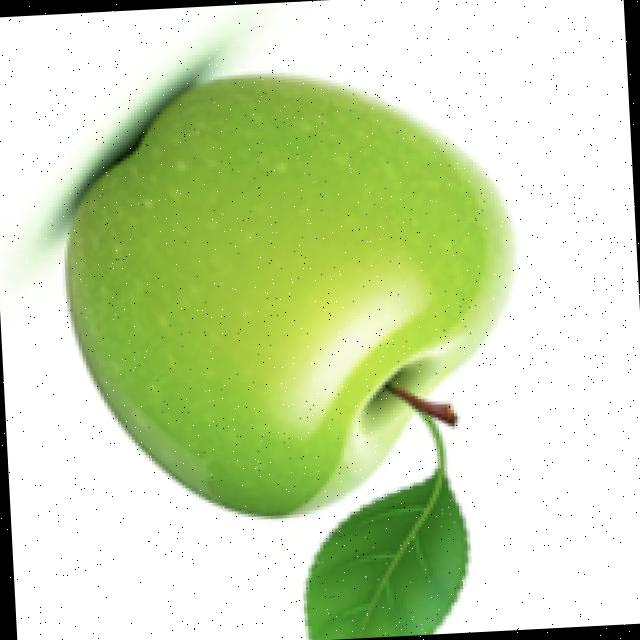apple: (24, 10, 522, 525)
